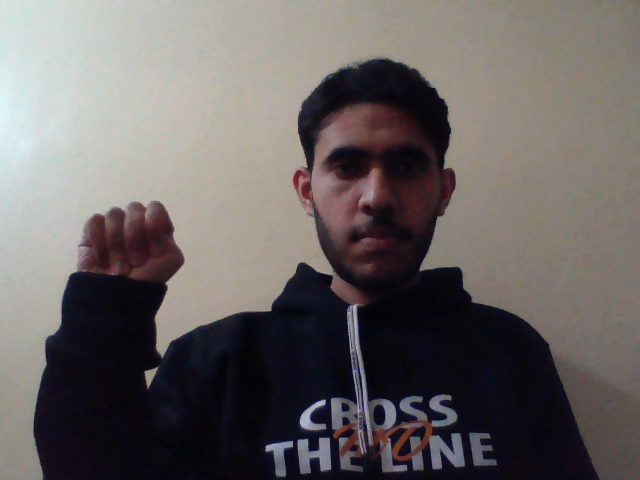M: (67, 198, 193, 302)
